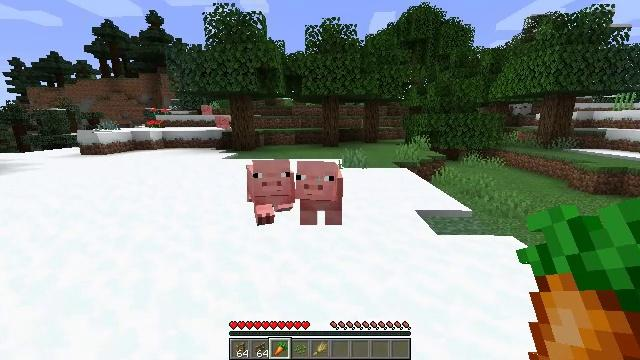pig: (296, 159, 344, 224), (247, 160, 294, 226), (215, 116, 231, 130), (200, 103, 214, 115)
